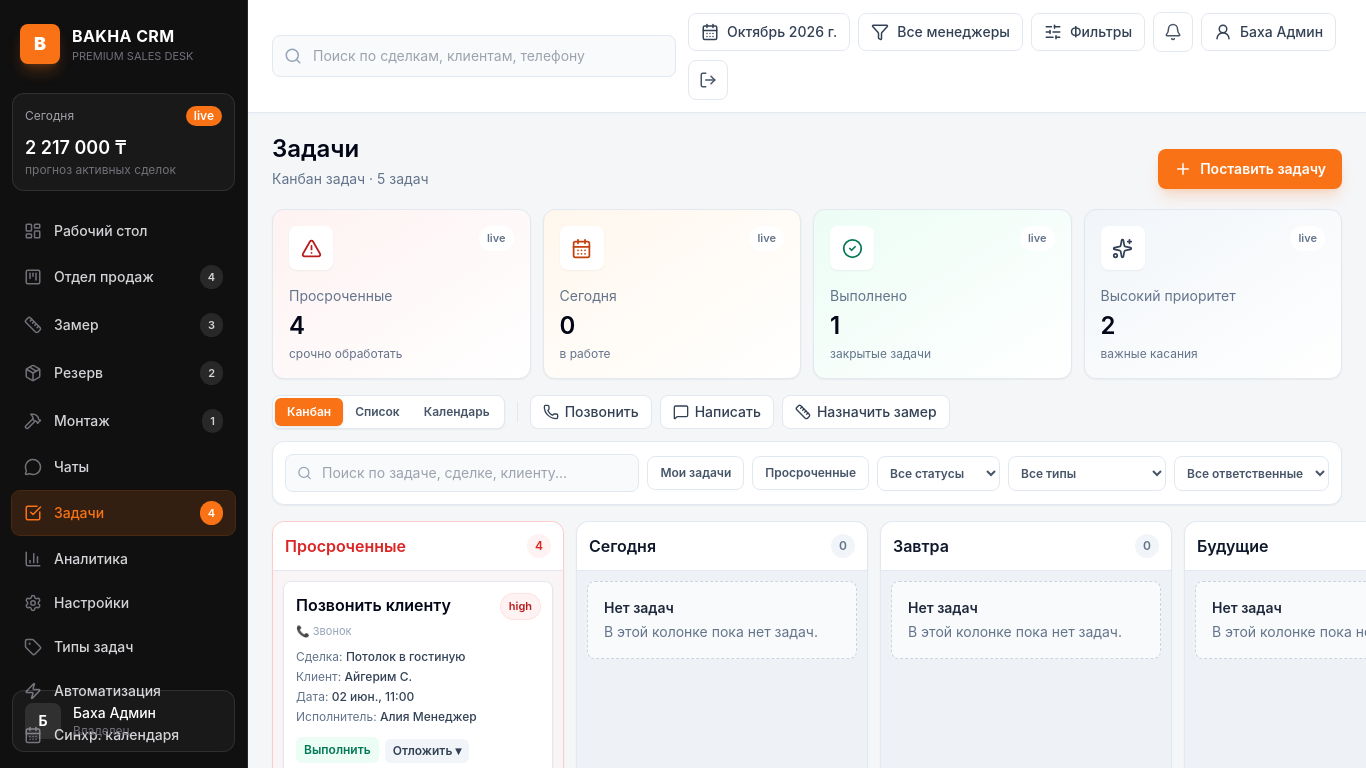
Bakha CRM smoke › opens task detail modal from task page without navigation
The width and height of the screenshot is (1366, 768).
Check: the heading "Задачи" is shown, box [272,134,359,163]
Type "Потолок в гостиную" into the field with placeholder "Поиск по задаче, сделке, клиенту..." at (462, 473), box [285,454,639,492]
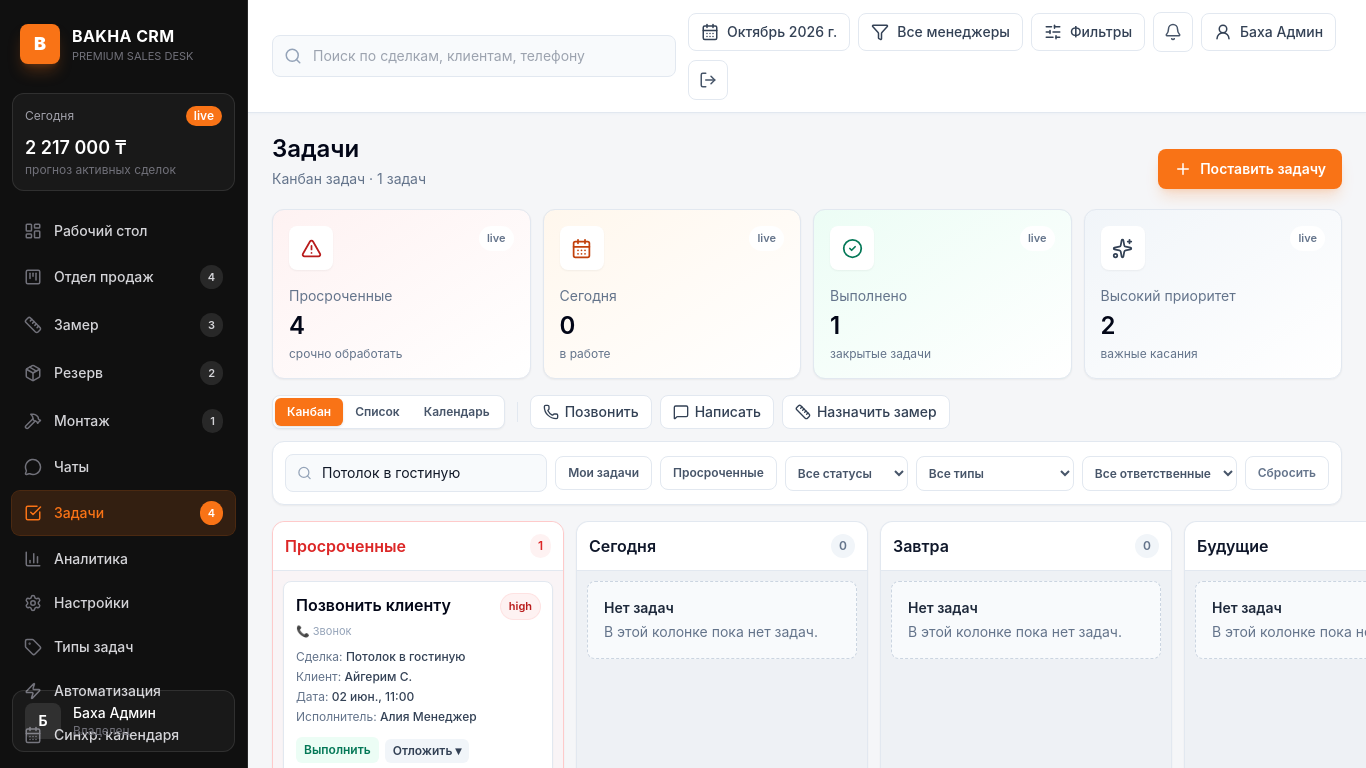
# Click card (not action button) → opens in-place detail modal, stays on /tasks
Click the text "Потолок в гостиную" at (406, 656), box [346,649,466,664]
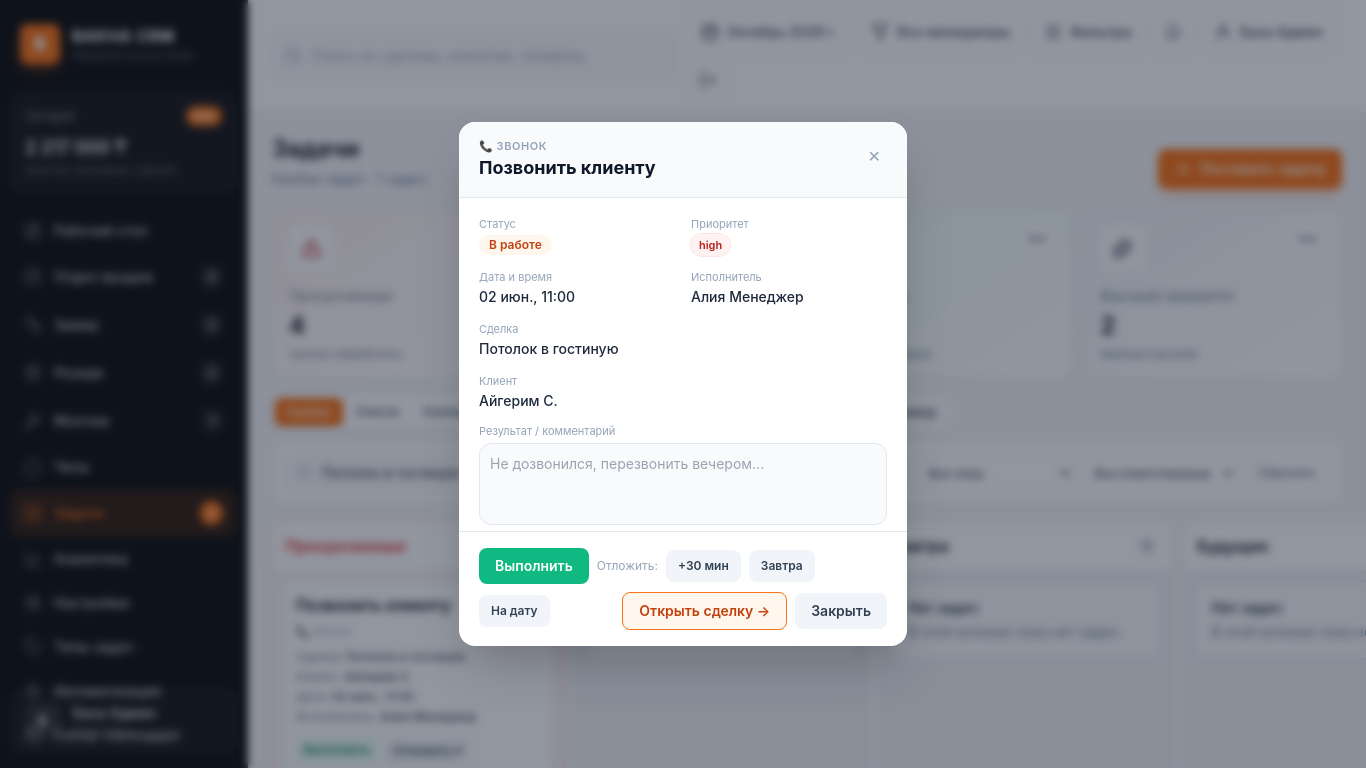
Check: the text "Результат / комментарий" is shown, box [479,424,615,438]
Check: the text box with placeholder "Не дозвонился, перезвонить вечером..." is shown, box [479,443,887,525]
Check: the button "+30 мин" is shown, box [666,550,741,582]
